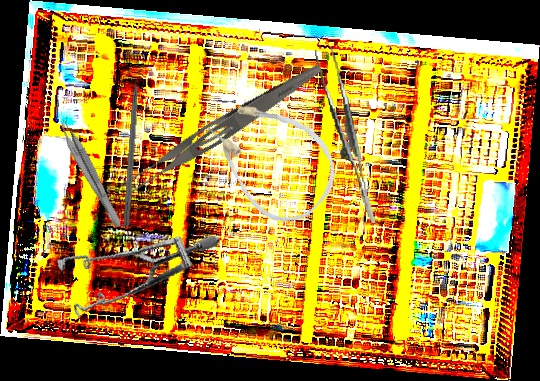Cannula: (190, 77, 354, 239)
Dressing Forceps: (115, 53, 326, 203)
Hook Surgical: (123, 64, 143, 228)
Speculum: (43, 198, 221, 347)
Tissue Forceps: (314, 45, 376, 228), (53, 115, 130, 230)
